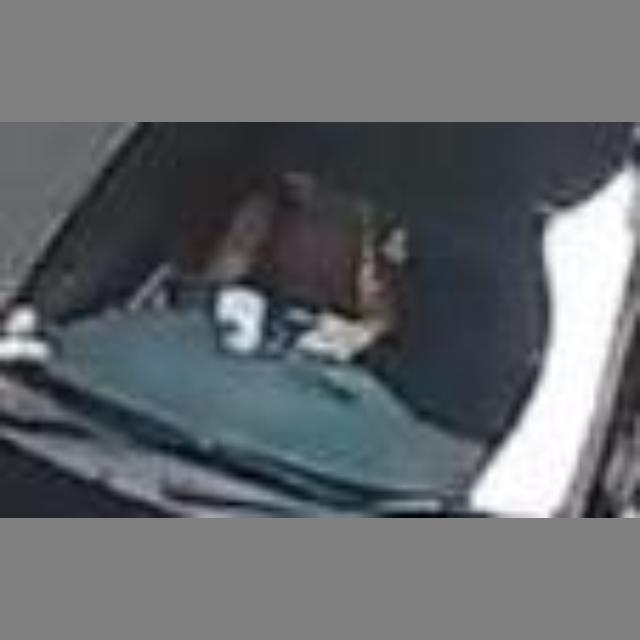tidak-pakai: (198, 179, 402, 360)
